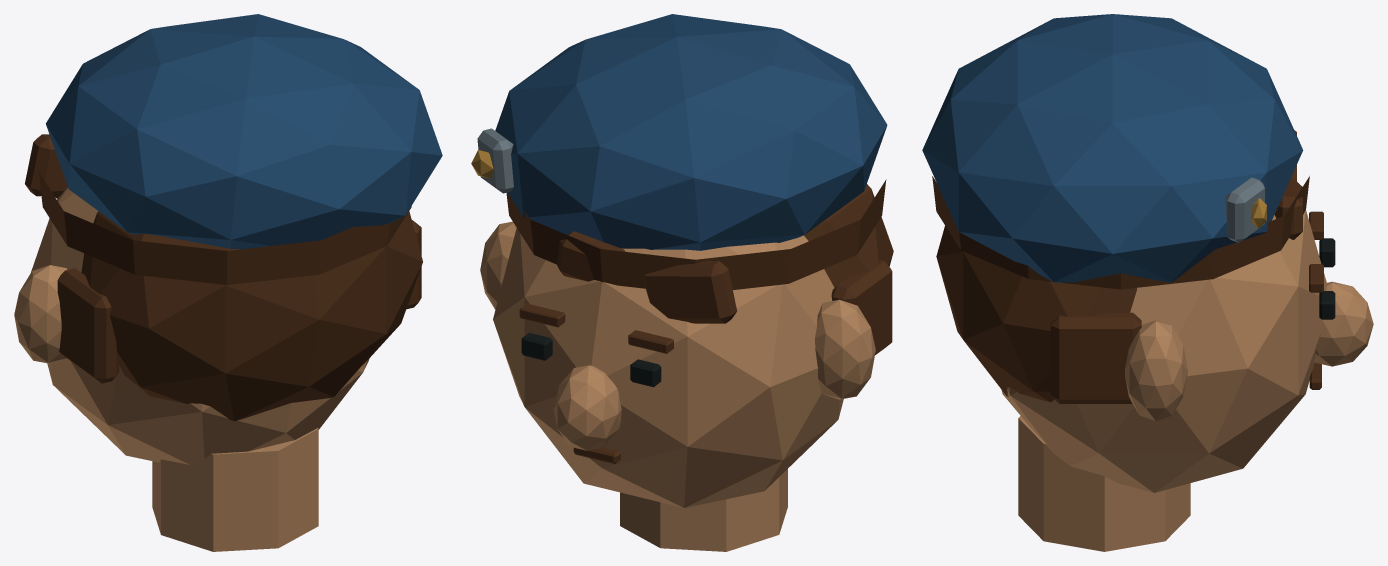
File: Head.glb
3 renders of one model, left to right at view 1: azimuth 30°, elevation 25°; view 2: azimuth 150°, elevation 25°; view 3: azimuth 270°, elevation 25°, orthographic.
Visible parts, largest first — view 1: Sculpture; view 2: Sculpture; view 3: Sculpture.
Boxes of the visible parts, bbox=[...] form: Sculpture: bbox=[14, 14, 442, 551]; Sculpture: bbox=[471, 14, 893, 551]; Sculpture: bbox=[922, 14, 1373, 551].
Size of the model in its own units: 0.536 by 0.6293 by 0.545.
